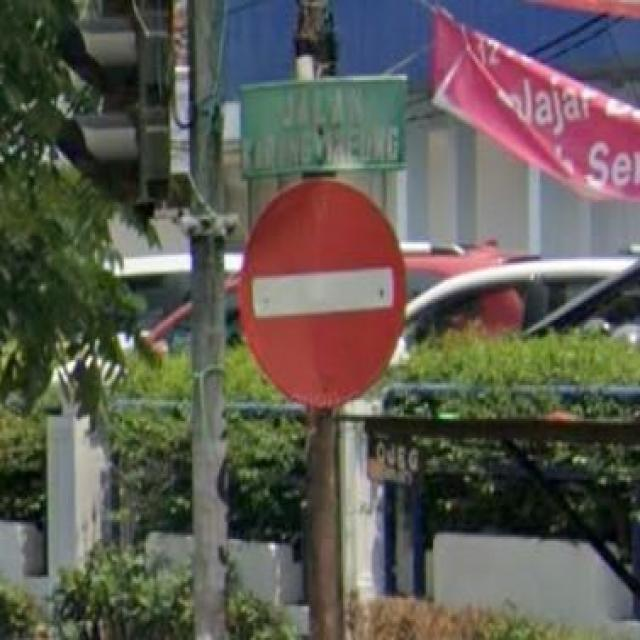traffic sign: (241, 175, 408, 415)
